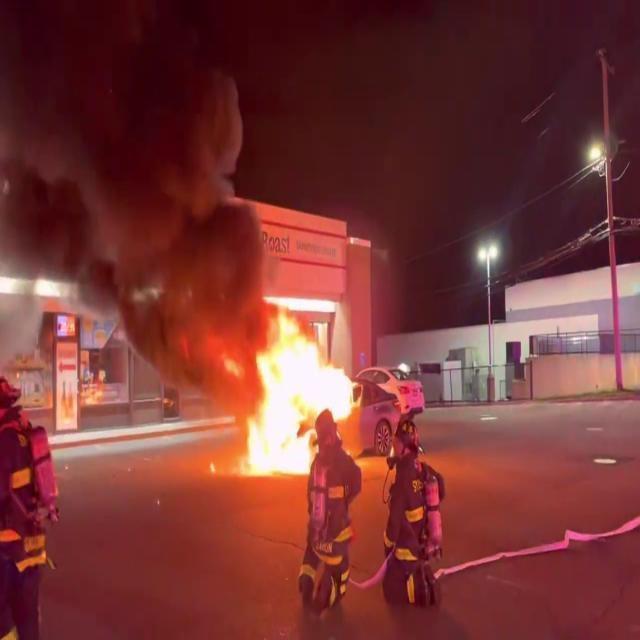Fire: (233, 288, 361, 476)
Smoke: (0, 0, 274, 378)
